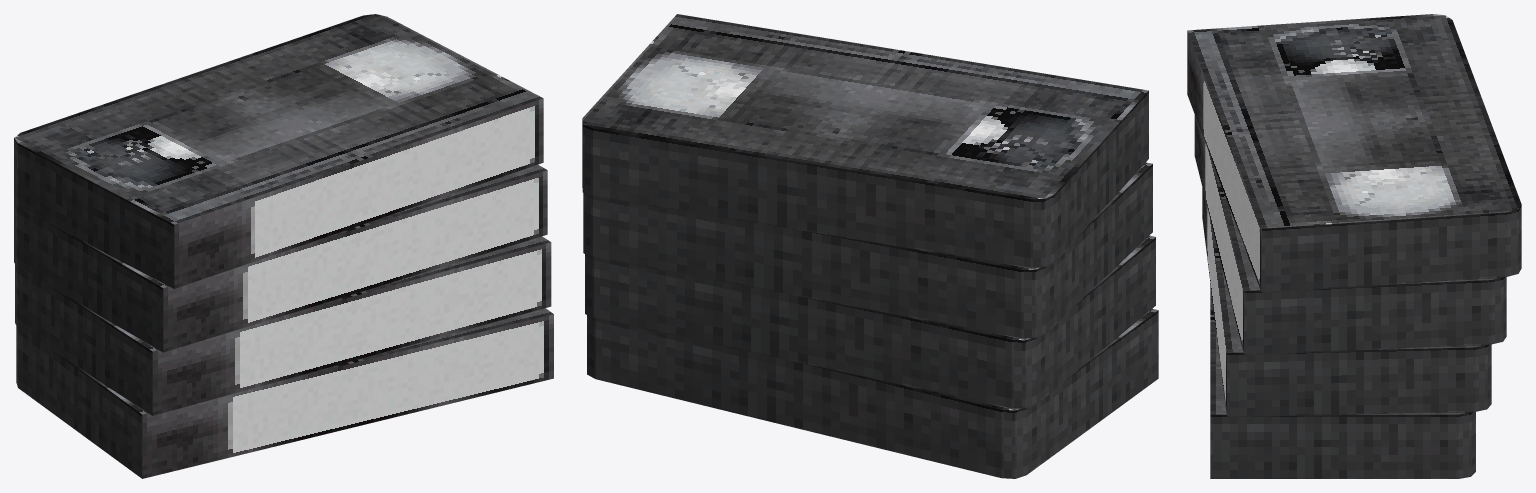
The model's file is vhs_stack.glb.
3 renders of one model, left to right at view 1: azimuth 30°, elevation 25°; view 2: azimuth 150°, elevation 25°; view 3: azimuth 270°, elevation 25°, orthographic. The views are drawn at different scales.
Parts seen in each view (by area): view 1: Cube.001; view 2: Cube.001; view 3: Cube.001.
Part boxes in pixels (bbox=[...]): Cube.001: bbox=[14, 14, 553, 478]; Cube.001: bbox=[582, 14, 1158, 478]; Cube.001: bbox=[1187, 14, 1521, 478].
Size of the model in its own units: 0.187 by 0.1046 by 0.1229.
1 material, 1 textured.
